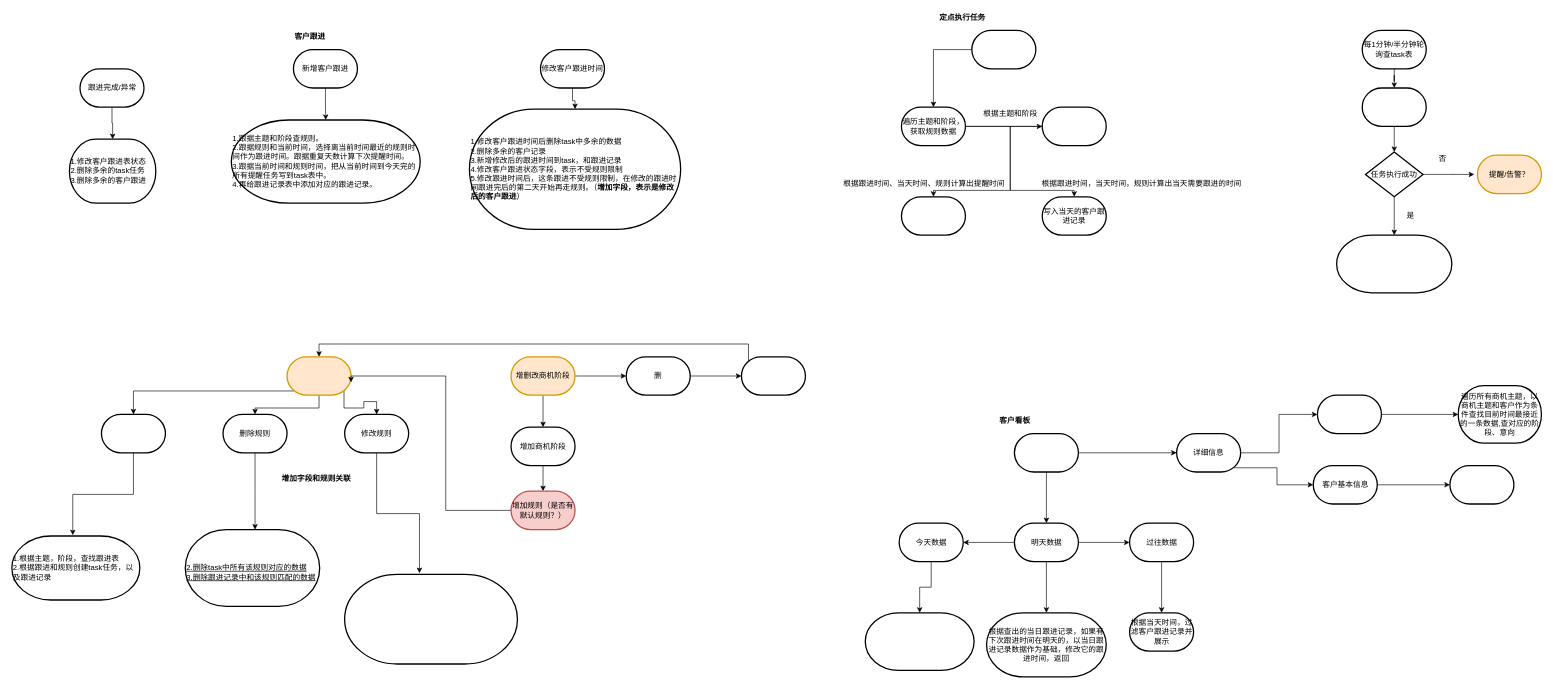
This 1553x688 diagram has some shape labels left out. The box of each missing label's shape, as (x1, y1, x2, y2) in pixels:
1.删除task所有该规则对应的行 2.删除所有客户跟进对应数据 3.根据商机主题、阶段、客户查找对应跟进， 4.根据规则和第3的信息生成客户跟进记录及task: (344, 573, 518, 664)
修改任务状态；更新客户跟进表及客户跟进记录表: (1336, 234, 1452, 293)
写入task: (900, 196, 966, 236)
增删改规则: (286, 356, 351, 396)
增加规则: (100, 413, 166, 453)
客户跟进数据: (1316, 394, 1382, 434)
拿出taskTime，执行提醒逻辑: (1361, 87, 1427, 127)
标签/tag: (1449, 465, 1514, 504)
根据当天时间，过滤客户跟进记录表，以客户、商机主题、阶段分组，选择时间最小的展示，每组展示一条: (864, 612, 974, 671)
每天零点: (971, 29, 1036, 69)
看板界面: (1013, 433, 1079, 472)
获取客户跟进数据: (1041, 106, 1107, 146)
跟据商机主题和商机阶段，计算所有的跟进规则: (740, 356, 806, 396)
